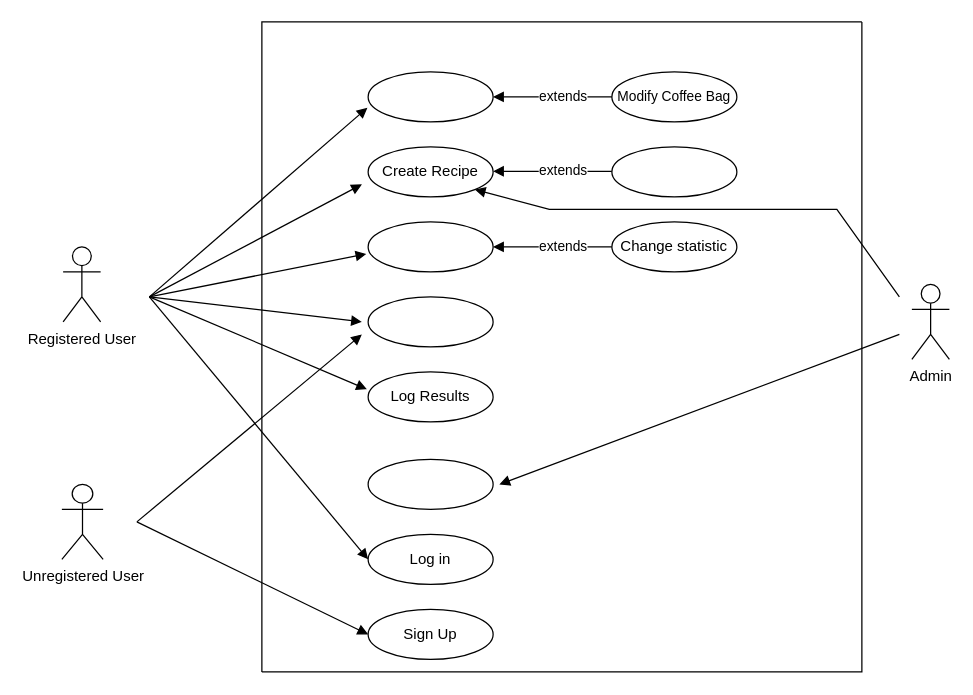
Some shapes in this 973 by 695 pixel diagram are drawn without their labels. Each missing label, with the centre of its shape:
"Add Coffee Bag" belongs at point 430,96.
"Manage Users" belongs at point 430,483.
"Publish recipe" belongs at point 674,171.
"Use Brew Timer" belongs at point 430,321.
"View Dashboard" belongs at point 430,246.
